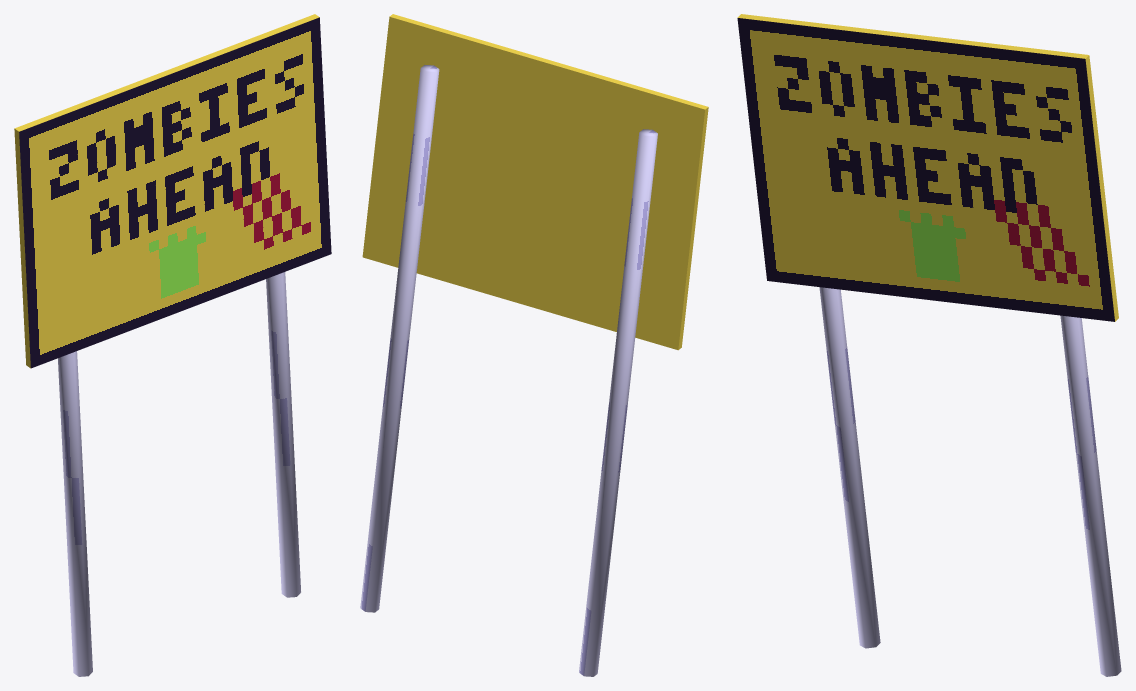
The model's file is Zombies Ahead Sign.fbx.
The picture shows the model from 3 angles, left to right: view 1: azimuth 30°, elevation 25°; view 2: azimuth 150°, elevation 25°; view 3: azimuth 330°, elevation 25°; orthographic projection. The views are drawn at different scales.
Parts seen in each view (by area): view 1: Zombies Ahead Sign plate, Zombies Ahead Sign 1 pole, Zombies Ahead Sign 0 pole; view 2: Zombies Ahead Sign plate, Zombies Ahead Sign 1 pole, Zombies Ahead Sign 0 pole; view 3: Zombies Ahead Sign plate, Zombies Ahead Sign 1 pole, Zombies Ahead Sign 0 pole.
Part boxes in pixels (box(x1,y1,x2,y2)): Zombies Ahead Sign plate: box(14, 14, 331, 368); Zombies Ahead Sign 1 pole: box(266, 272, 300, 597); Zombies Ahead Sign 0 pole: box(58, 351, 92, 676); Zombies Ahead Sign plate: box(362, 14, 708, 350); Zombies Ahead Sign 1 pole: box(360, 65, 439, 612); Zombies Ahead Sign 0 pole: box(579, 129, 657, 676); Zombies Ahead Sign plate: box(737, 14, 1118, 321); Zombies Ahead Sign 1 pole: box(1060, 315, 1121, 676); Zombies Ahead Sign 0 pole: box(819, 287, 880, 648).
Size of the model in its own units: 1.38 by 2.43 by 0.3124.
2 materials, 2 textured.
